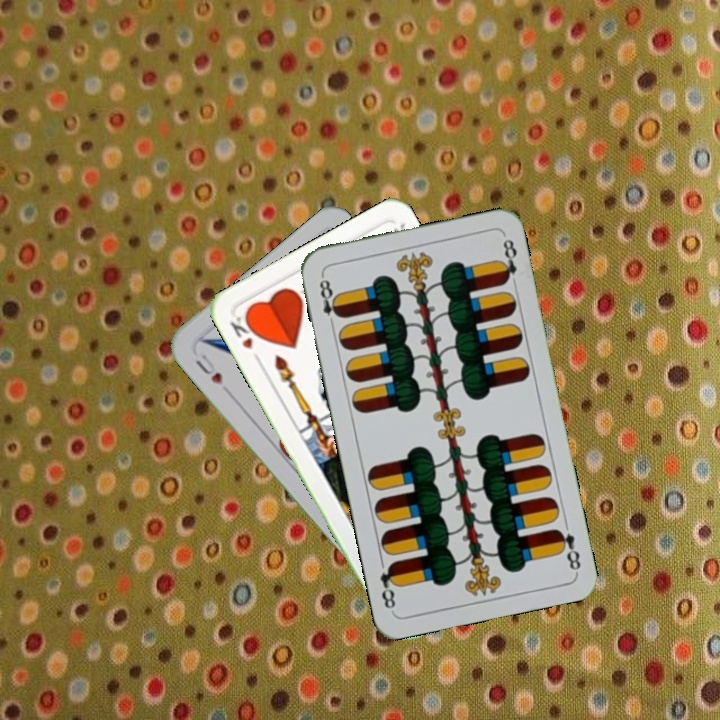E8: (315, 271, 344, 330), (551, 524, 584, 575)
HK: (226, 307, 265, 366)
HU: (191, 350, 226, 387)
